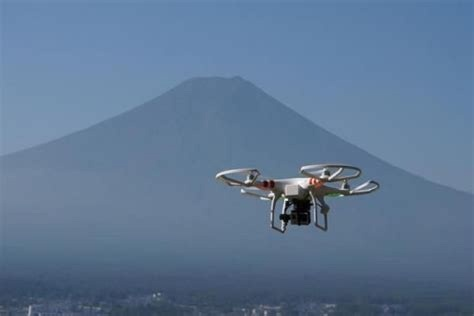DJI: (213, 163, 382, 236)
